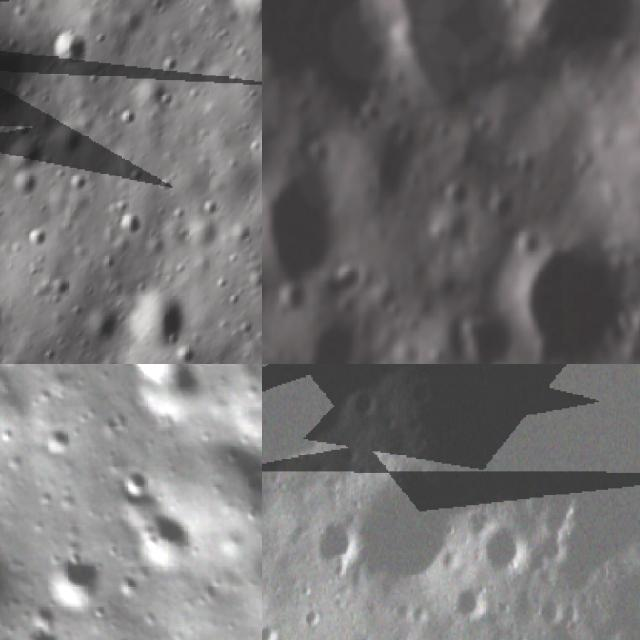crater: (506, 229, 640, 364), (262, 0, 404, 127), (389, 0, 527, 114), (358, 473, 480, 599), (262, 156, 356, 293), (186, 414, 262, 551), (520, 0, 631, 87), (120, 494, 212, 585), (120, 364, 217, 441), (32, 538, 112, 616), (114, 290, 189, 364), (293, 305, 369, 364), (98, 364, 213, 395), (0, 35, 33, 140), (481, 521, 537, 580), (450, 314, 516, 364), (0, 512, 26, 635), (312, 511, 361, 576), (36, 412, 87, 466), (111, 456, 160, 509), (52, 27, 93, 78), (429, 211, 476, 255), (454, 576, 490, 625), (9, 616, 81, 640), (436, 172, 475, 214), (482, 187, 517, 231), (349, 387, 387, 425), (9, 164, 44, 201), (558, 593, 592, 631), (226, 0, 262, 35), (536, 593, 568, 630), (262, 476, 280, 530), (112, 210, 146, 235), (298, 602, 326, 630), (157, 51, 184, 78), (410, 601, 434, 629), (70, 168, 95, 191), (262, 615, 282, 640), (125, 165, 146, 186), (30, 227, 48, 250), (198, 197, 216, 220)
